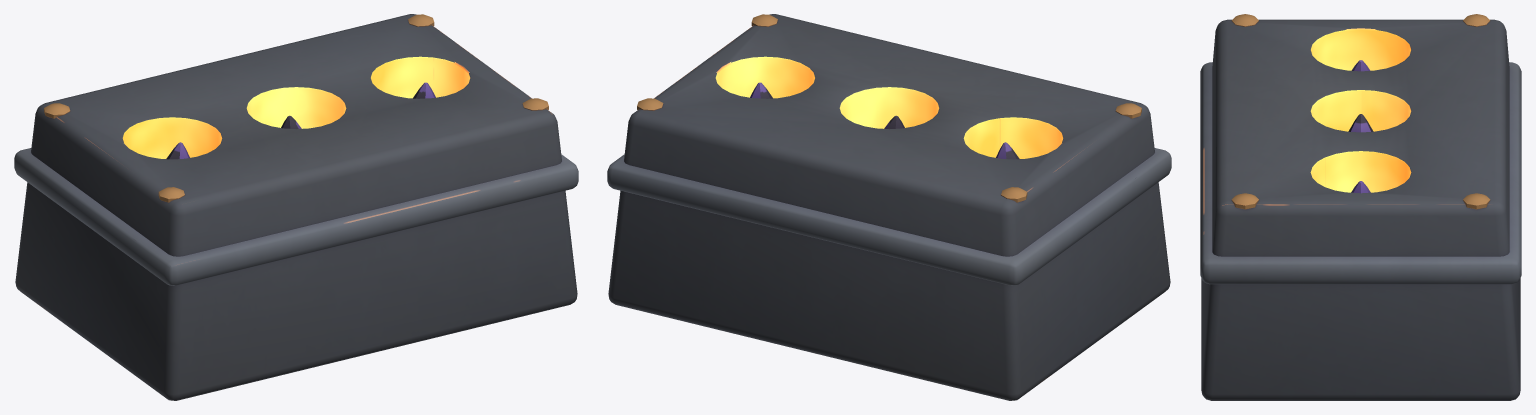
The model's file is EF_G06_ObsidianSpikeTrap.fbx.
3 renders of one model, left to right at view 1: azimuth 30°, elevation 25°; view 2: azimuth 150°, elevation 25°; view 3: azimuth 270°, elevation 25°, orthographic.
Visible parts, largest first — view 1: Base; view 2: Base; view 3: Base.
Part boxes in pixels (x1,y1,x2,y2): Base: (14,14,578,400); Base: (607,14,1171,400); Base: (1200,14,1521,400).
Size of the model in its own units: 1.5 by 0.676 by 1.
